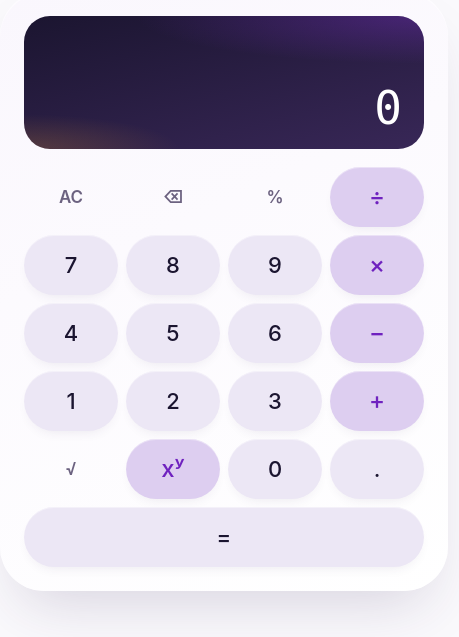
Scenario: Calculator › chains multiple operations and keeps the full breadcrumb
Click the button "9" at (275, 265), box [228,235,322,295]
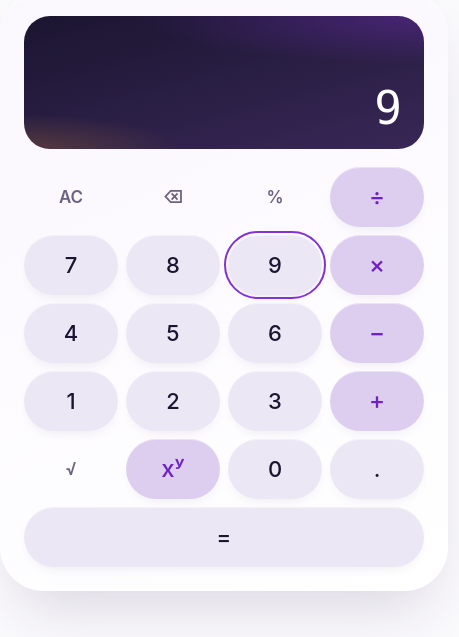
Click the button named "Add" at (377, 401), box [330,371,424,431]
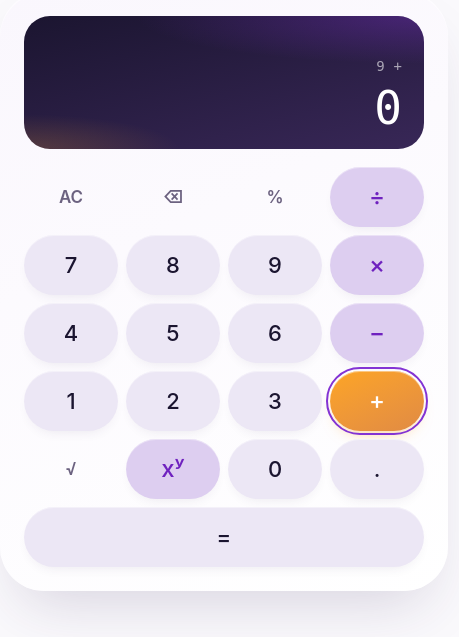
Click the button "9" at (275, 265), box [228,235,322,295]
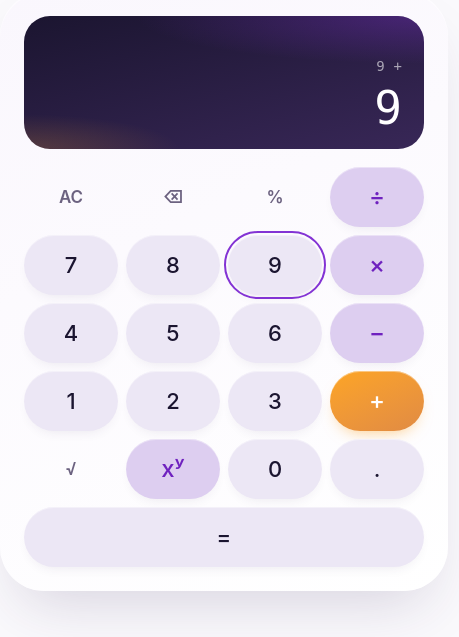
Click the button named "Add" at (377, 401), box [330,371,424,431]
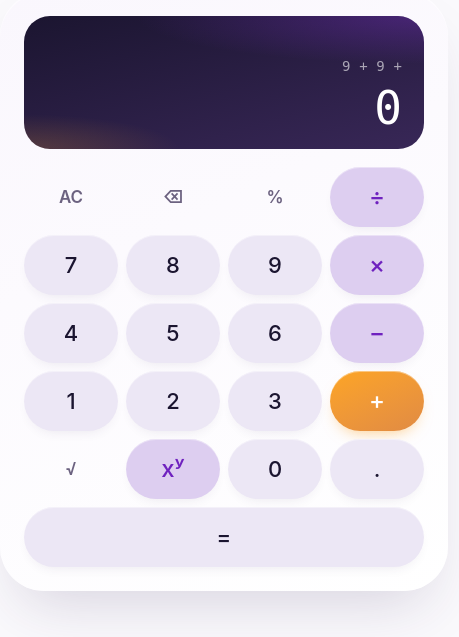
Click the button "9" at (275, 265), box [228,235,322,295]
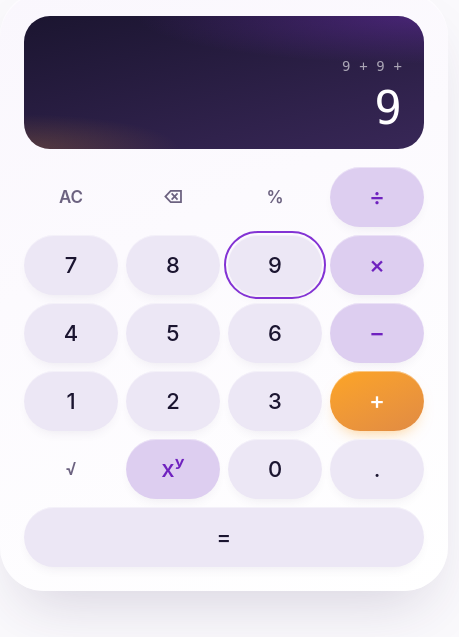
Click the button "=" at (224, 537), box [24,507,424,567]
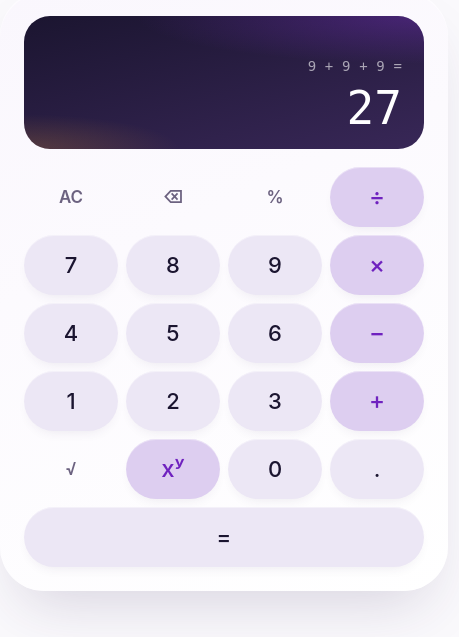
expect the text with test id "calculator-display" reads "27": met, box [347,81,402,135]
expect the text "9 + 9 + 9 =" is shown: met, box [308,58,402,74]
